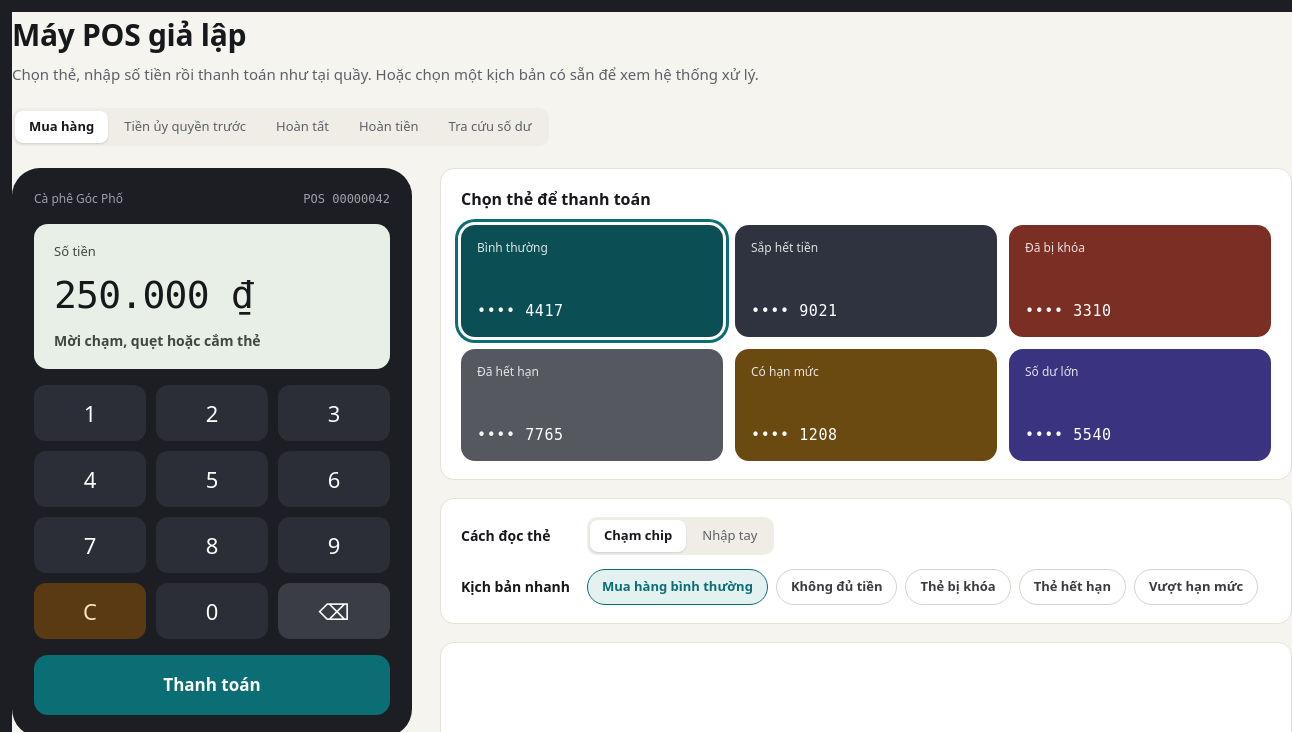
Test: PosScreen › MCN-305-AC4 (Ruling R1) sends a chip read with no PIN block
This screenshot has width=1292, height=732.
Step 1. Click the button "Thanh toán" → (212, 685), box [34, 655, 390, 715]
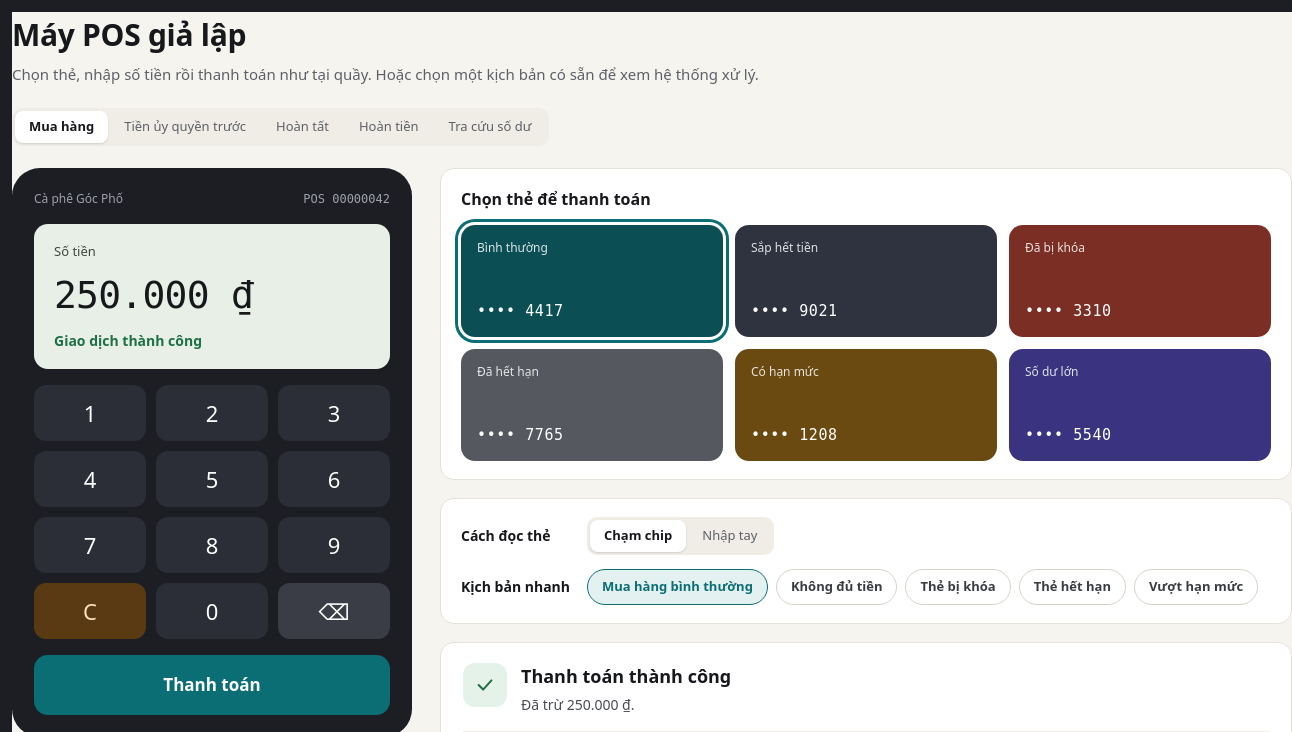
Now the text "Thanh toán thành công" is shown, box [521, 664, 731, 688]
